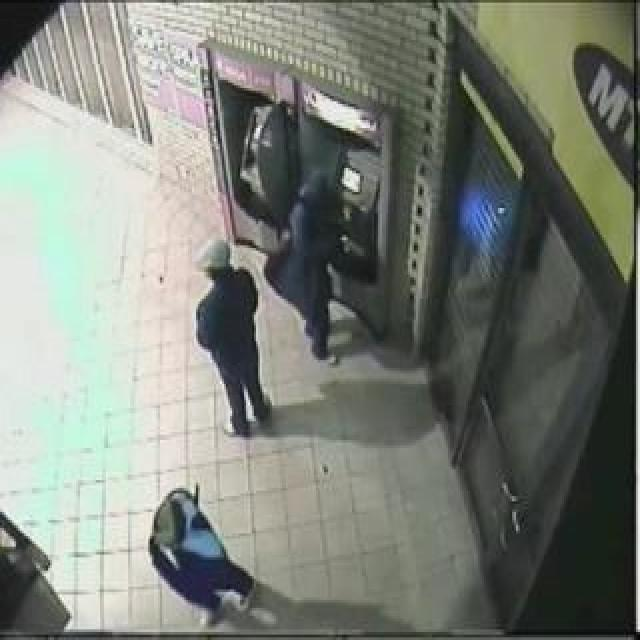thief: (197, 177, 362, 329), (121, 483, 228, 579)
